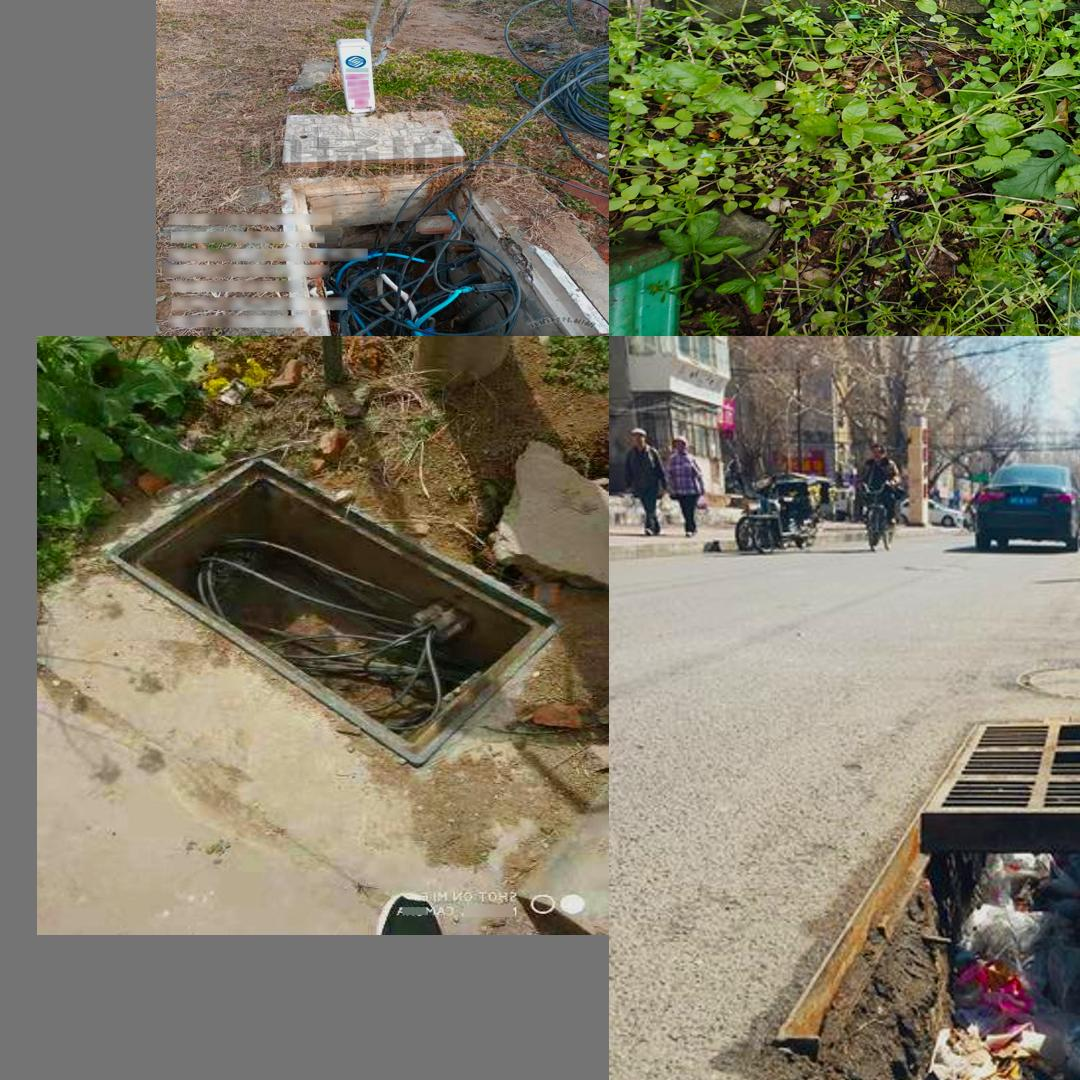lose: (111, 455, 561, 768), (766, 815, 1080, 1080), (277, 173, 606, 335), (701, 0, 1080, 14)
